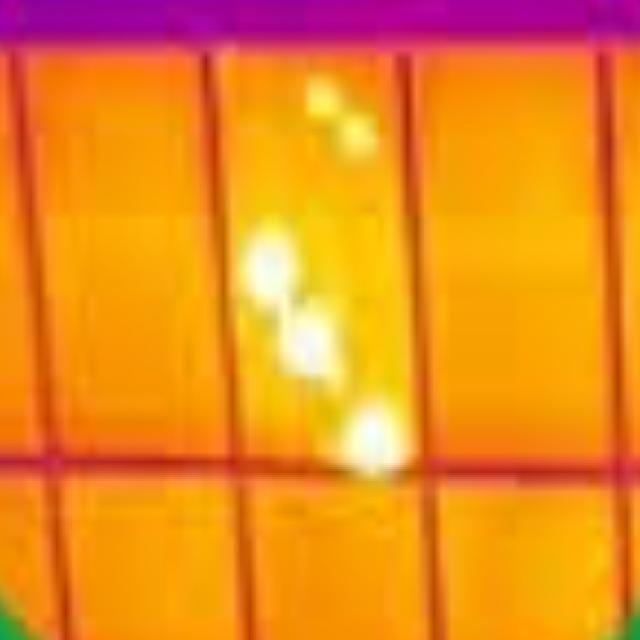hotspot group: (237, 211, 417, 475), (285, 66, 400, 173)
panel with hotspots: (207, 36, 435, 478)
